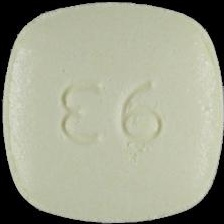66116-443: (0, 0, 224, 224)
